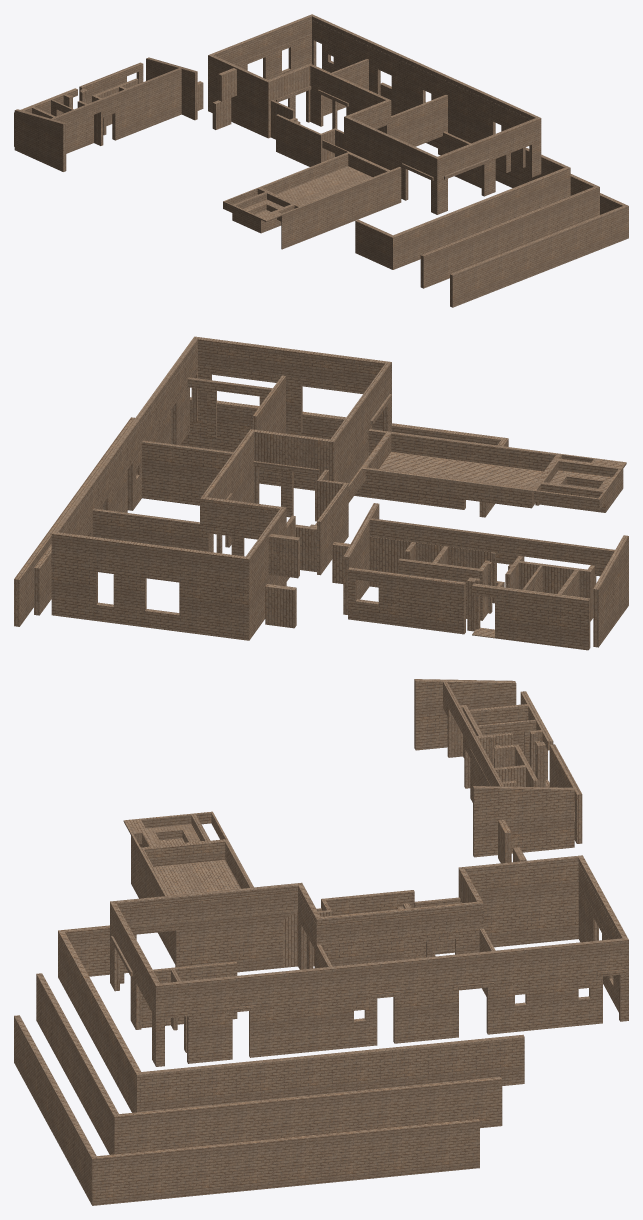
Rendered from C01_Tex.glb.
3 renders of one model, top to bottom at view 1: azimuth 30°, elevation 25°; view 2: azimuth 150°, elevation 25°; view 3: azimuth 270°, elevation 25°, orthographic. The views are drawn at different scales.
Parts seen in each view (by area): view 1: C01W_Wall01_Text02; view 2: C01W_Wall01_Text02; view 3: C01W_Wall01_Text02.
Part boxes in pixels (x1,y1,x2,y2): C01W_Wall01_Text02: (14,14,628,307); C01W_Wall01_Text02: (14,336,628,650); C01W_Wall01_Text02: (14,679,628,1205).
Bounding box in the file's own units: 39.33 × 11.5 × 30.98.
Materials: 1 (1 with a texture image).
